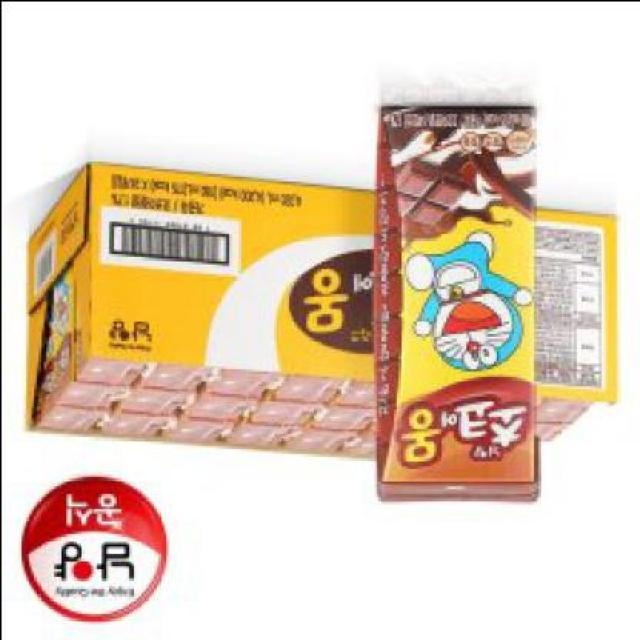tetra: (361, 81, 557, 527)
